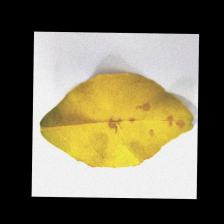black spot: (93, 91, 178, 144)
